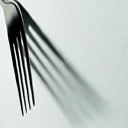Fork: (1, 1, 46, 118)
